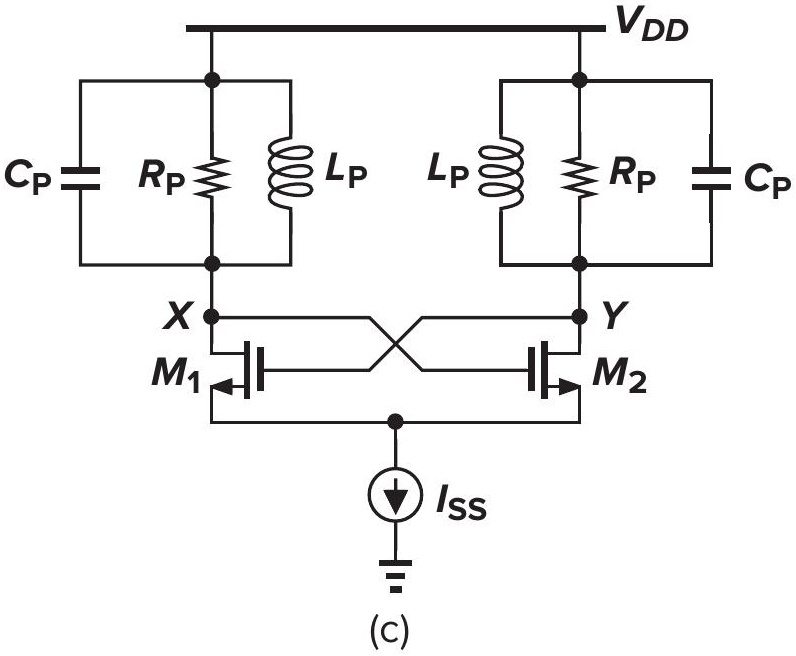capacity: (687, 159, 734, 194), (57, 160, 104, 194)
current: (363, 463, 425, 524)
gnd: (376, 547, 413, 594)
inductor: (471, 126, 531, 218), (259, 126, 318, 218)
nmos: (205, 336, 269, 401), (522, 336, 585, 401)
resistor: (190, 150, 234, 202), (557, 150, 600, 202)
